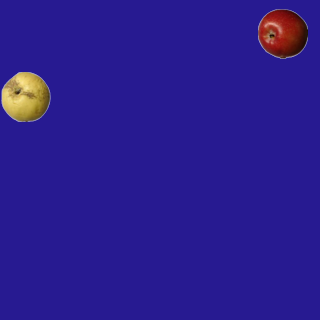Apple Braeburn: (257, 8, 307, 58)
Apple Golden 1: (0, 71, 50, 121)
